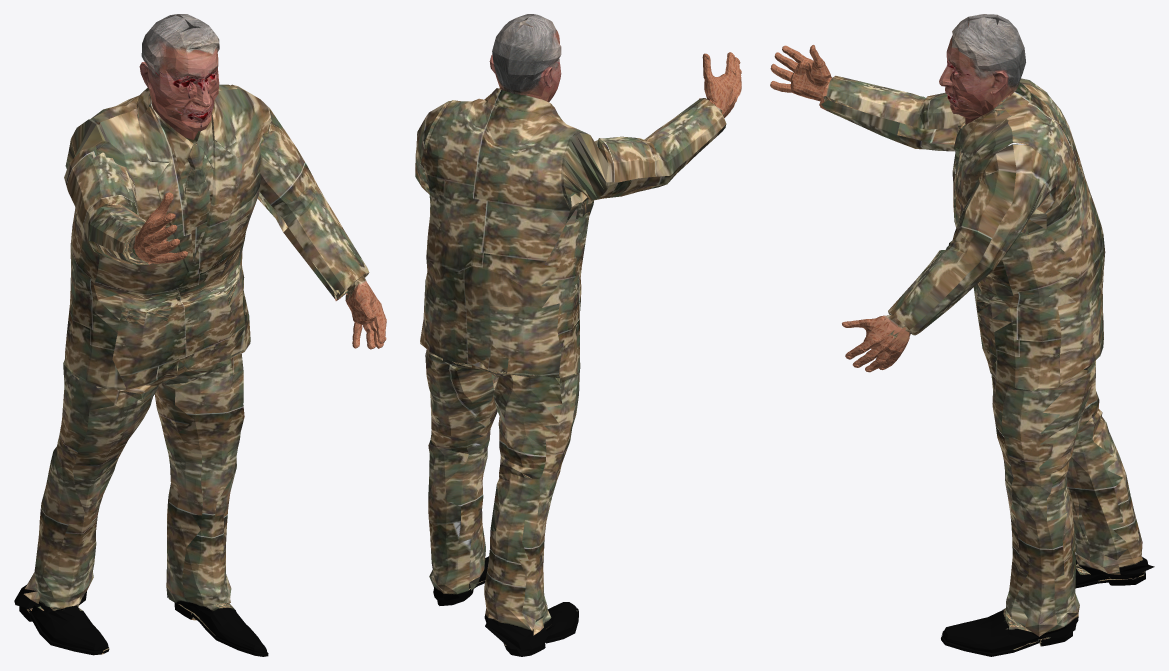
File: zombie_000042.obj
The picture shows the model from 3 angles, left to right: view 1: azimuth 30°, elevation 25°; view 2: azimuth 150°, elevation 25°; view 3: azimuth 270°, elevation 25°; orthographic projection. The views are drawn at different scales.
Visible parts, largest first — view 1: Suit_coat_orig_9___De, objGeo_Hea_orig_9___D; view 2: Suit_coat_orig_9___De, objGeo_Hea_orig_9___D; view 3: Suit_coat_orig_9___De, objGeo_Hea_orig_9___D.
Boxes of the visible parts, box(x1,y1,x2,y2) form: Suit_coat_orig_9___De: box(14, 84, 386, 656); objGeo_Hea_orig_9___D: box(139, 14, 219, 139); Suit_coat_orig_9___De: box(415, 52, 741, 656); objGeo_Hea_orig_9___D: box(489, 14, 561, 101); Suit_coat_orig_9___De: box(770, 45, 1154, 656); objGeo_Hea_orig_9___D: box(939, 14, 1025, 124).
Size of the model in its own units: 0.8671 by 1.87 by 1.08.
